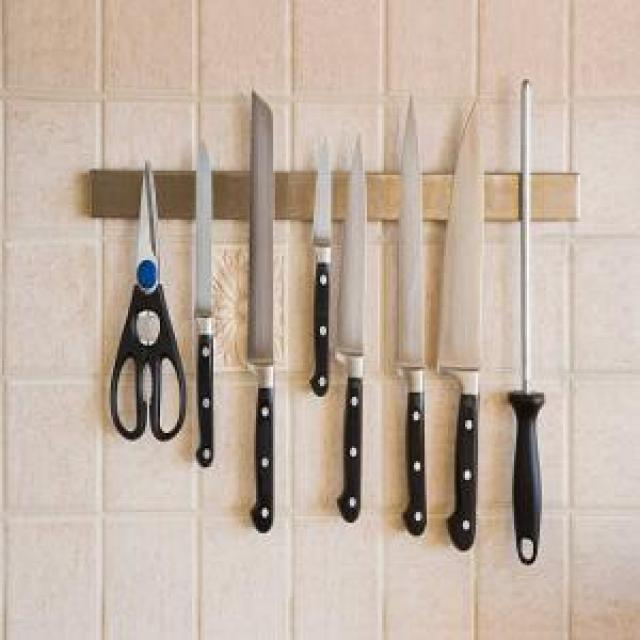knife: (440, 92, 488, 556), (244, 85, 278, 546), (397, 92, 431, 543), (337, 130, 369, 532), (190, 141, 216, 469), (309, 134, 333, 423)
